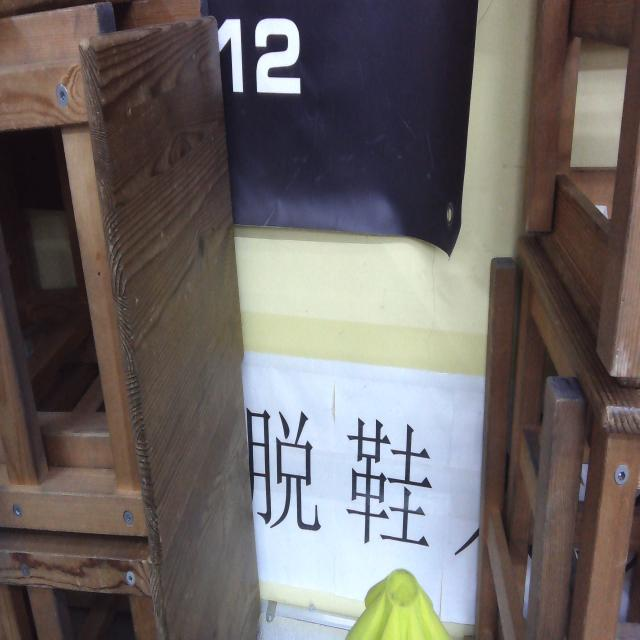Yellow-Stake-Head: (346, 567, 450, 640)
